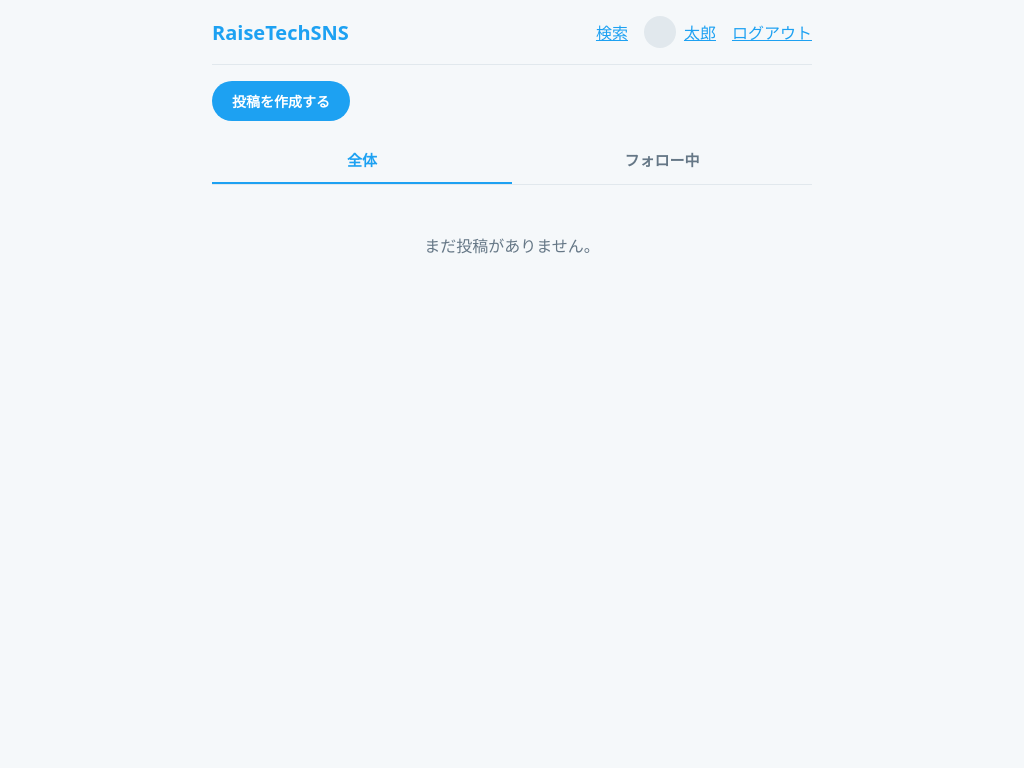
Test: TimelineScreen › 自分のプロフィール画面から投稿すると、その投稿一覧の先頭に反映される
The image size is (1024, 768).
expect the text "まだ投稿がありません。" is shown: met, box [424,235,600,257]
Click the button "太郎" at (680, 32), box [644,16,716,48]
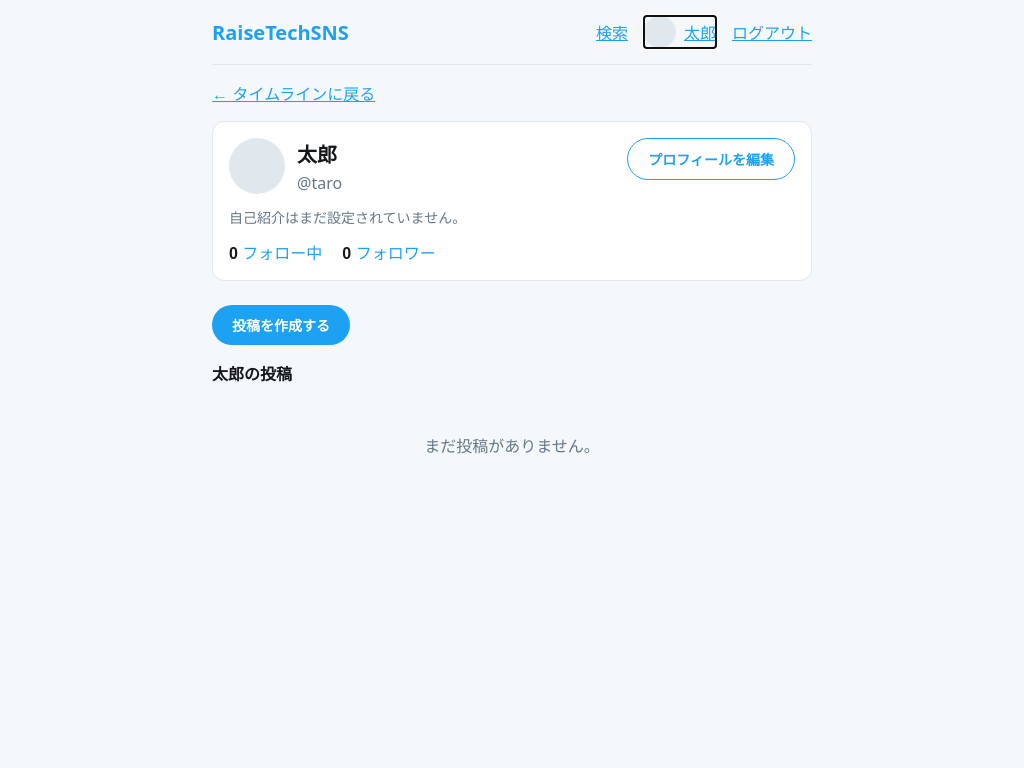
expect the text "@taro" is shown: met, box [297,172,342,194]
Click the button "投稿を作成する" at (281, 325), box [212,305,350,345]
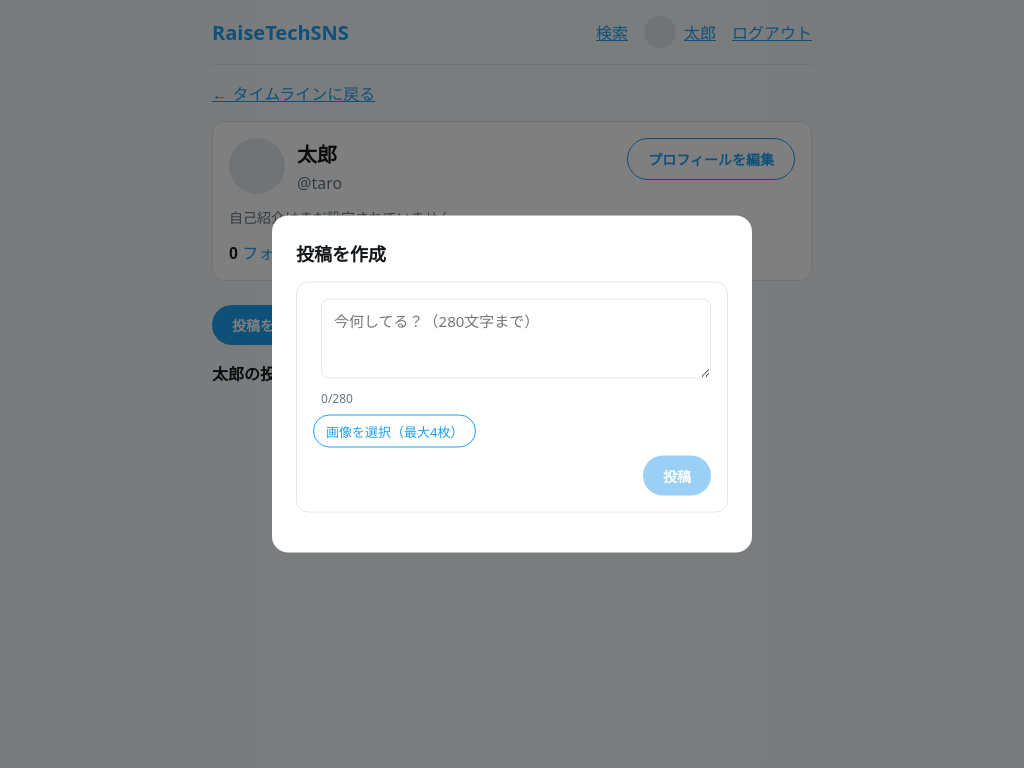
Type "プロフィールからの投稿" into the text box named "投稿内容" at (516, 338), box [321,298,711,378]
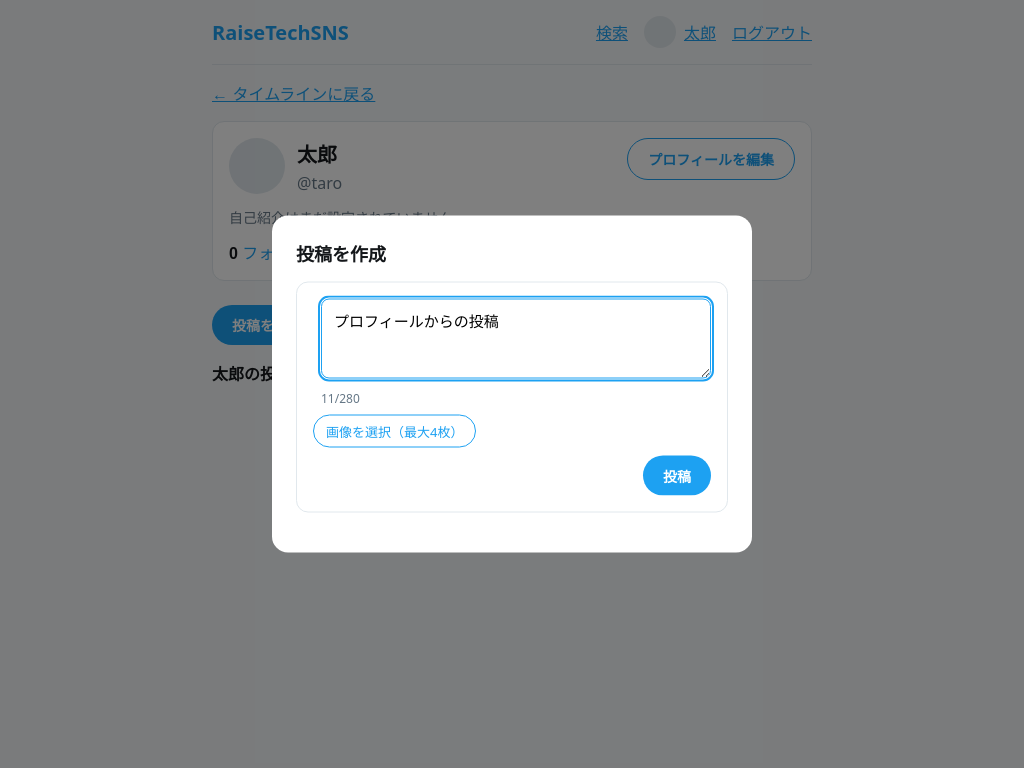
Click the button "投稿" at (677, 476), box [643,456,711,496]
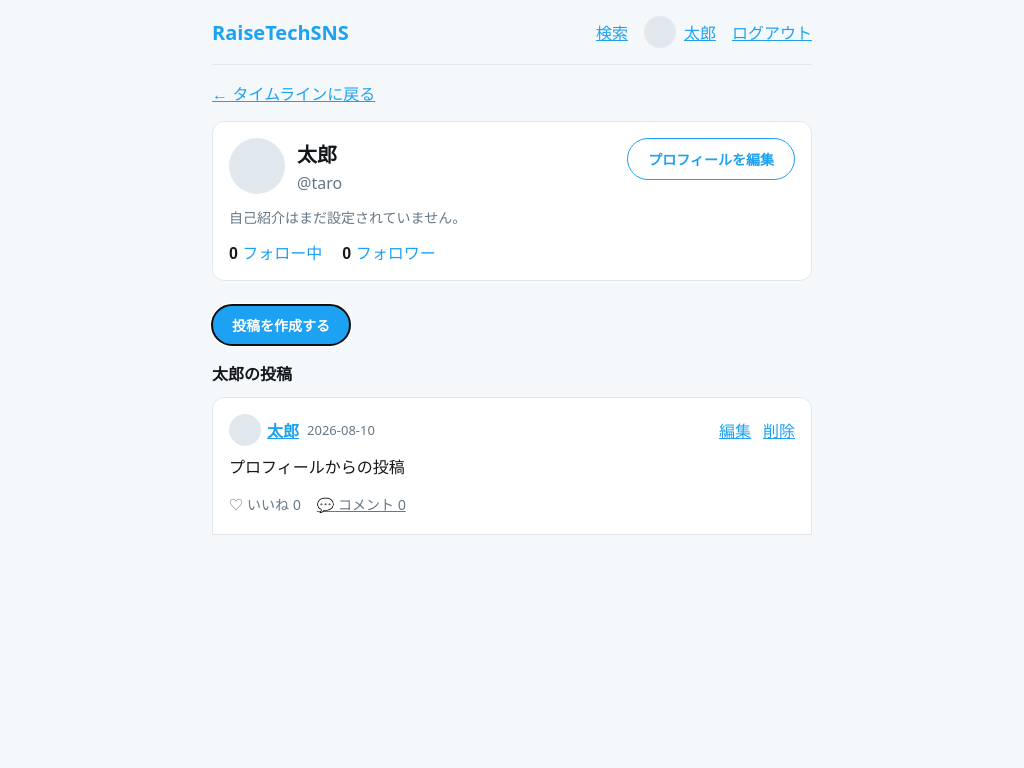
expect the text "プロフィールからの投稿" is shown: met, box [229,456,405,478]
expect the text "まだ投稿がありません。" is gone: met
expect the dialog is gone: met
